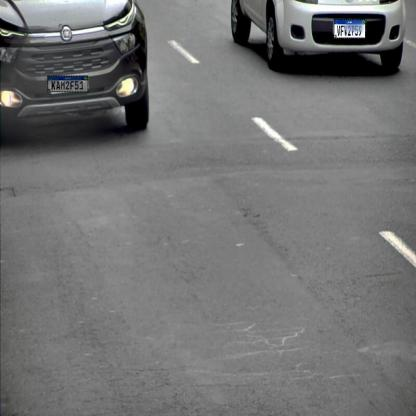PlacaM: (48, 76, 88, 92), (334, 19, 365, 39)
